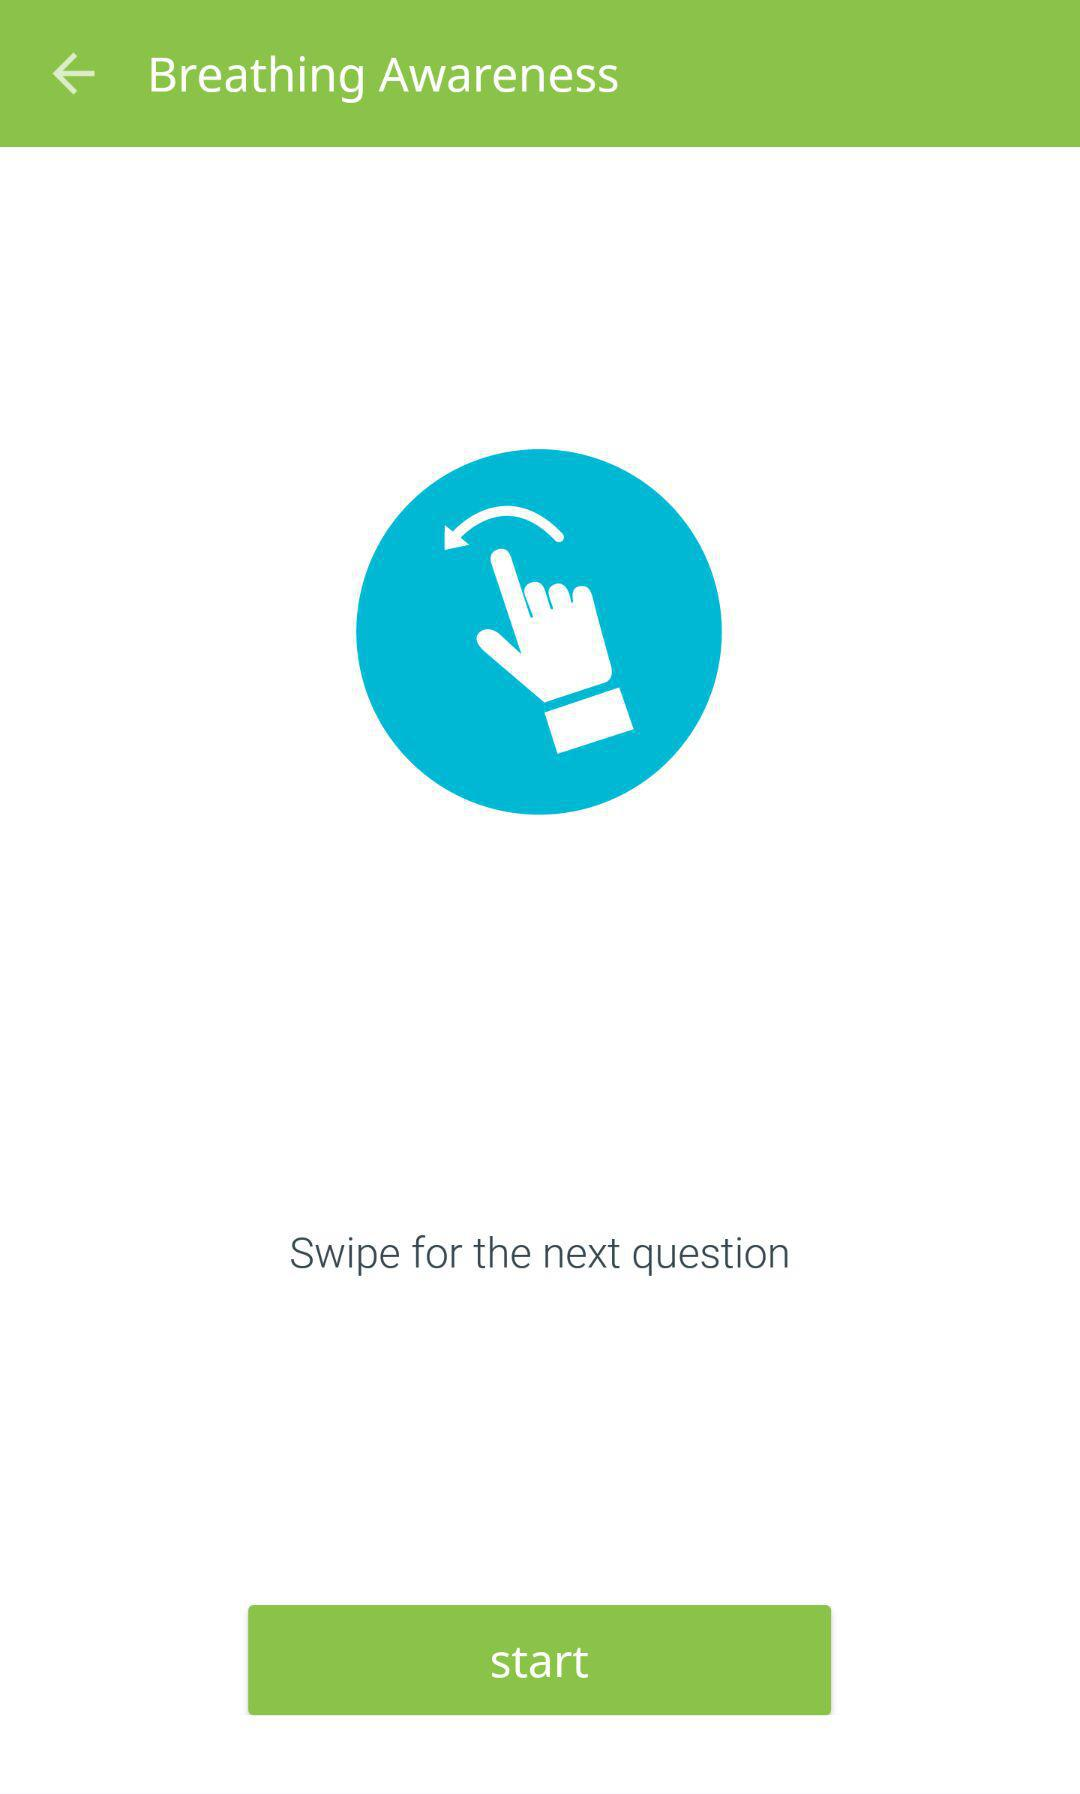Icon: (53, 53, 97, 96)
Image: (356, 448, 723, 816)
Text: (151, 54, 618, 105), (291, 1235, 789, 1278)
TextButton: (249, 1606, 831, 1715)
Toolbar: (1, 3, 1080, 147)
